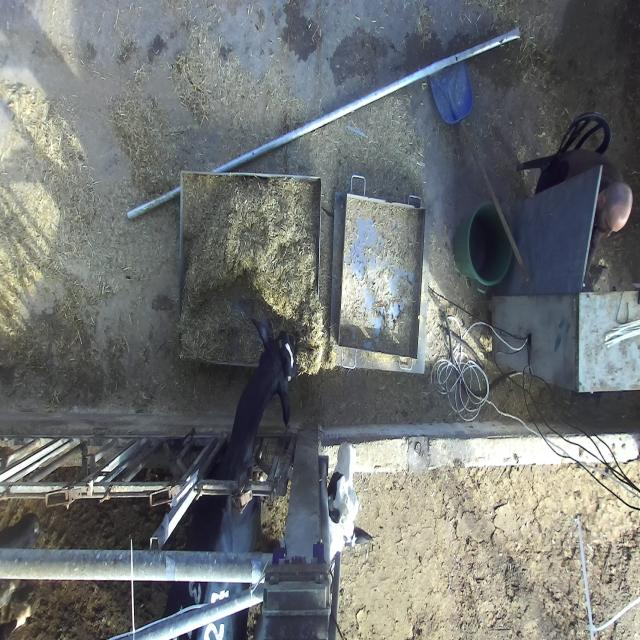cow: (250, 321, 298, 432)
